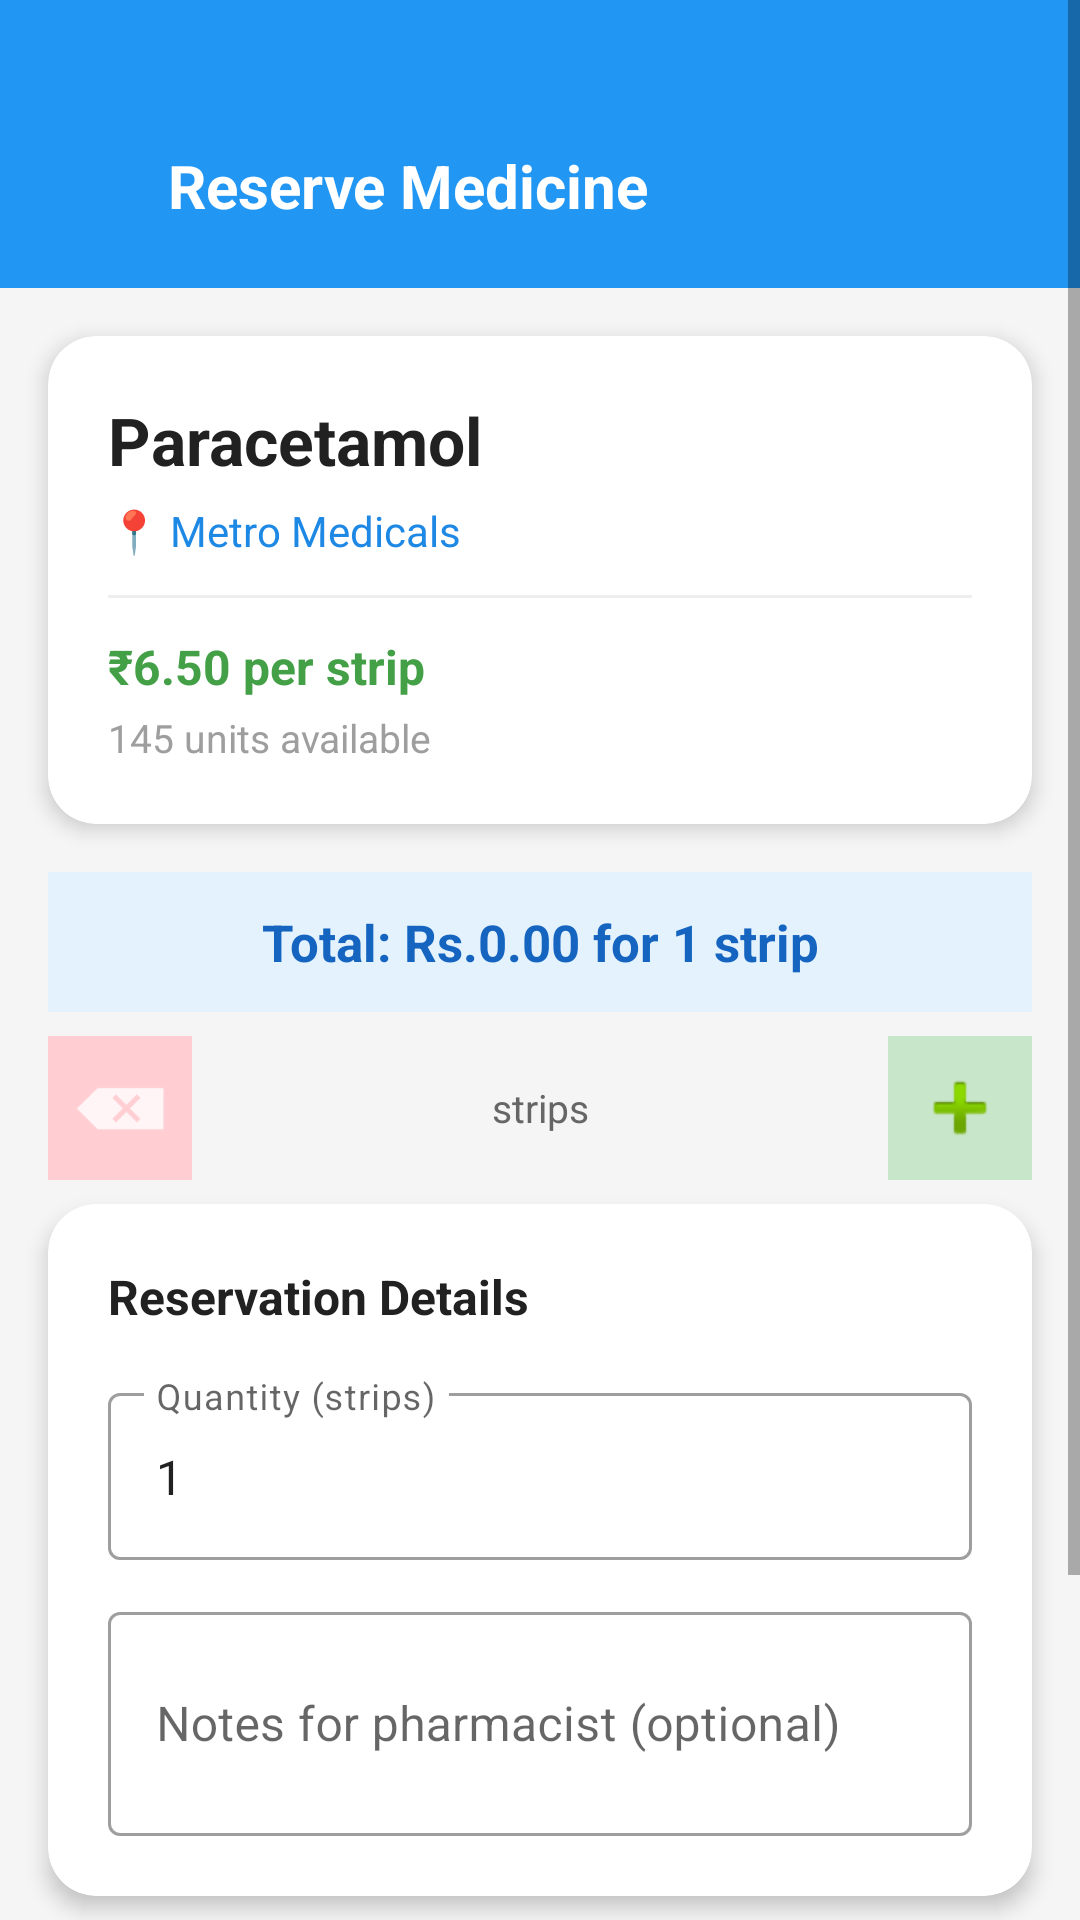

Icons on this 1080w x 1920h Android screen, each with its box as detection(x1, y1, x2, y2):
Increase: detection(888, 1036, 1032, 1180)
